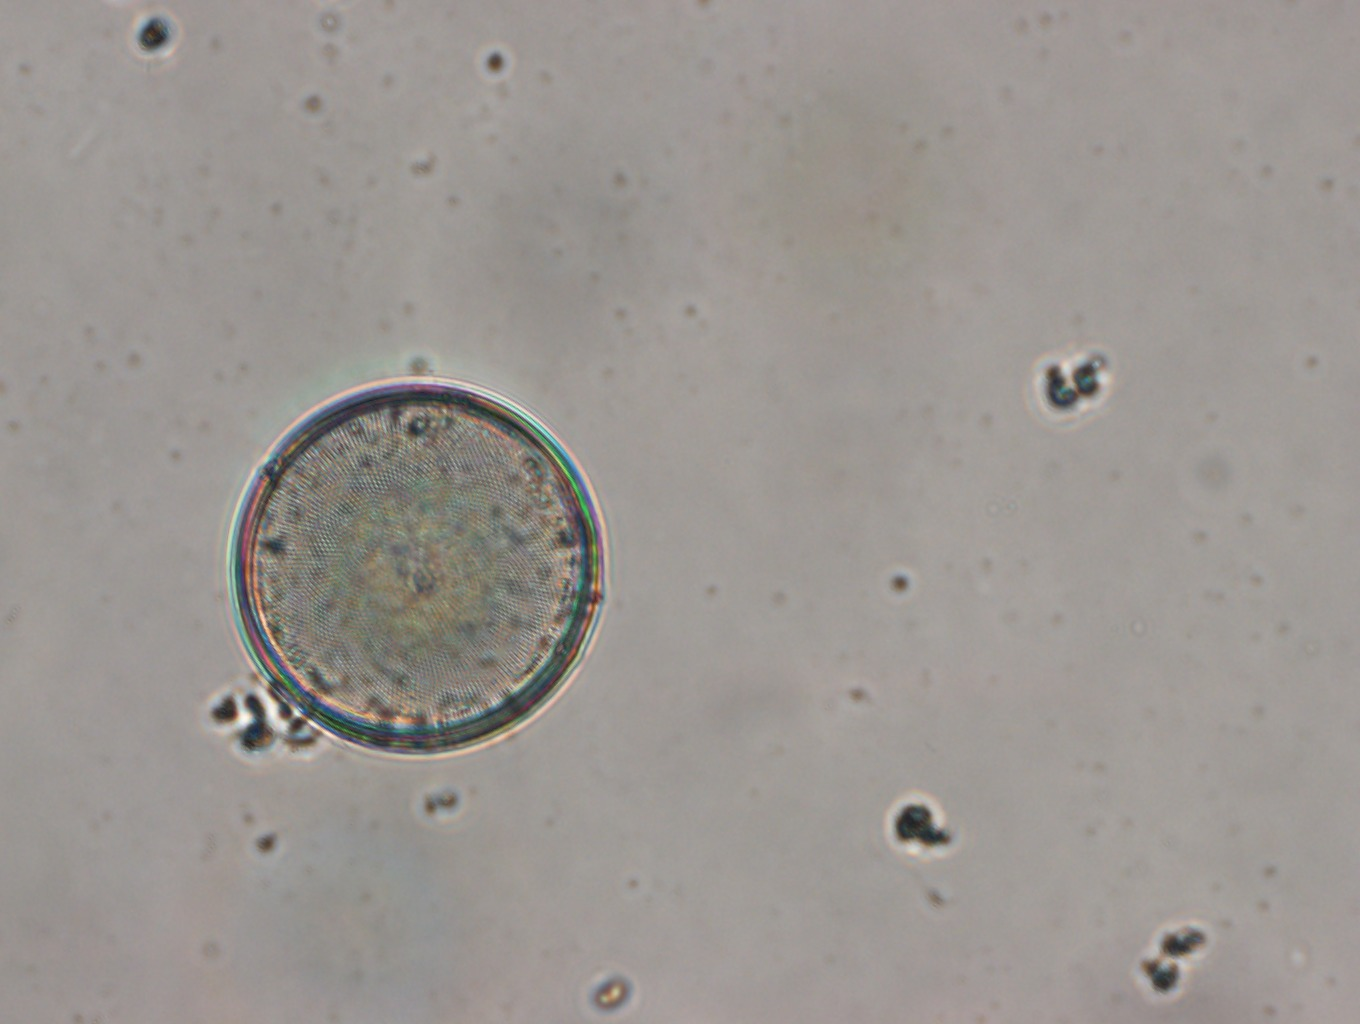coscinodiscus: (227, 375, 609, 759)
